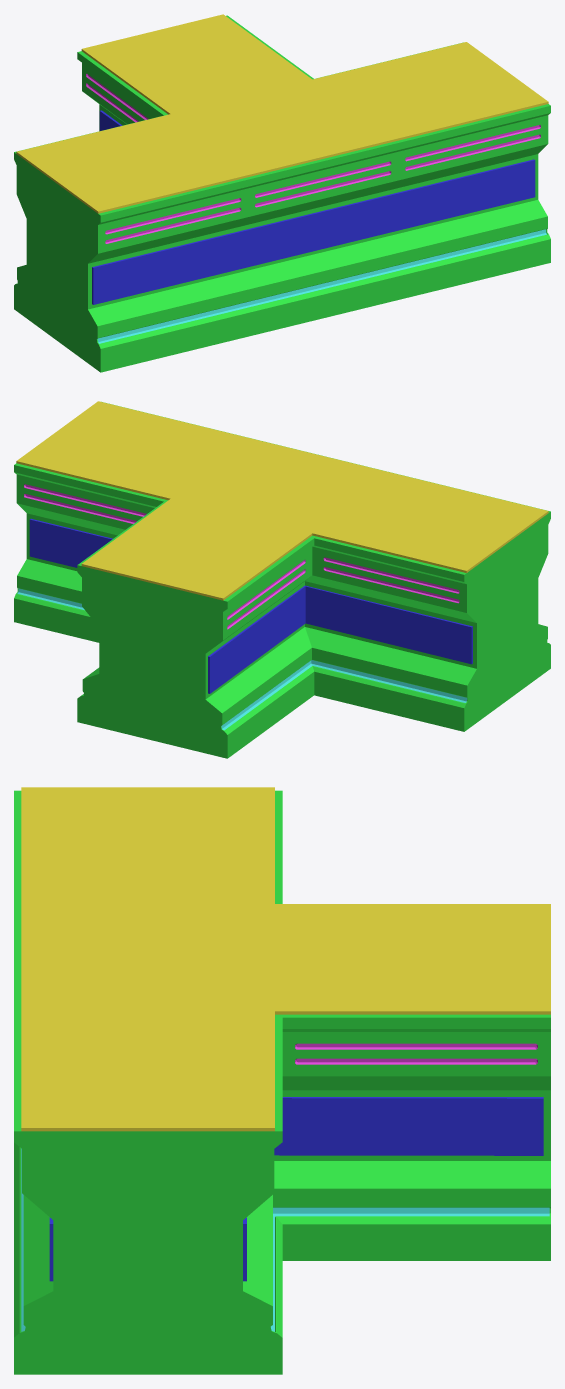
Rendered from Bar_Table_01_T.fbx.
The picture shows the model from 3 angles, top to bottom: view 1: azimuth 30°, elevation 25°; view 2: azimuth 150°, elevation 25°; view 3: azimuth 270°, elevation 25°; orthographic projection. The views are drawn at different scales.
Visible parts, largest first — view 1: Bar_Table_01_T; view 2: Bar_Table_01_T; view 3: Bar_Table_01_T.
Part boxes in pixels (x1,y1,x2,y2): Bar_Table_01_T: [14, 14, 550, 372]; Bar_Table_01_T: [14, 401, 550, 758]; Bar_Table_01_T: [14, 787, 550, 1374].
Bounding box in the file's own units: 274 × 92.71 × 183.
